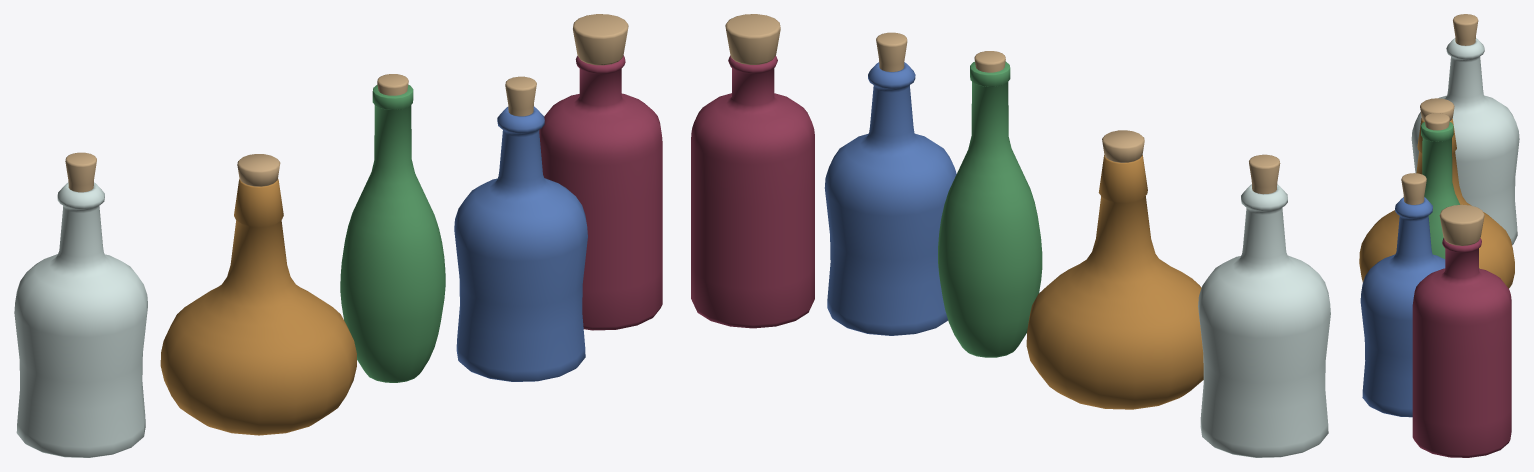
The model's file is Bottle_set_2.glb.
The picture shows the model from 3 angles, left to right: view 1: azimuth 30°, elevation 25°; view 2: azimuth 150°, elevation 25°; view 3: azimuth 270°, elevation 25°; orthographic projection. The views are drawn at different scales.
Parts seen in each view (by area): view 1: Bottle_set_2.005, Bottle_set_2.006, Bottle_set_2.009, Bottle_set_2.007, Bottle_set_2, Bottle_set_2.003, Bottle_set_2.001, Bottle_set_2.008, Bottle_set_2.002; view 2: Bottle_set_2.007, Bottle_set_2.005, Bottle_set_2.009, Bottle_set_2.006, Bottle_set_2, Bottle_set_2.003, Bottle_set_2.001, Bottle_set_2.002, Bottle_set_2.008; view 3: Bottle_set_2.007, Bottle_set_2.006, Bottle_set_2.009, Bottle_set_2.005, Bottle_set_2, Bottle_set_2.003, Bottle_set_2.002, Bottle_set_2.008, Bottle_set_2.001, Bottle_set_2.004.
Boxes of the visible parts, x1,y1,x2,y2 form: Bottle_set_2.005: (160, 179, 356, 435); Bottle_set_2.006: (454, 106, 587, 381); Bottle_set_2.009: (14, 182, 147, 457); Bottle_set_2.007: (539, 55, 662, 330); Bottle_set_2: (340, 84, 445, 382); Bottle_set_2.003: (573, 14, 628, 65); Bottle_set_2.001: (237, 154, 280, 186); Bottle_set_2.008: (65, 152, 96, 192); Bottle_set_2.002: (505, 76, 536, 116); Bottle_set_2.007: (691, 55, 814, 328); Bottle_set_2.005: (1026, 155, 1203, 409); Bottle_set_2.009: (1198, 184, 1330, 457); Bottle_set_2.006: (824, 62, 956, 335); Bottle_set_2: (938, 61, 1042, 357); Bottle_set_2.003: (725, 14, 780, 64); Bottle_set_2.001: (1102, 130, 1144, 162); Bottle_set_2.002: (876, 32, 907, 71); Bottle_set_2.008: (1249, 154, 1280, 194); Bottle_set_2.007: (1412, 238, 1511, 457); Bottle_set_2.006: (1360, 197, 1445, 417); Bottle_set_2.009: (1411, 38, 1519, 244); Bottle_set_2.005: (1359, 118, 1514, 288); Bottle_set_2: (1421, 121, 1479, 268); Bottle_set_2.003: (1439, 204, 1484, 245); Bottle_set_2.002: (1401, 173, 1426, 204); Bottle_set_2.008: (1453, 14, 1478, 45); Bottle_set_2.001: (1420, 98, 1454, 120); Bottle_set_2.004: (1424, 113, 1449, 130).
Bounding box in the file's own units: 0.771 × 0.3431 × 0.2124.
